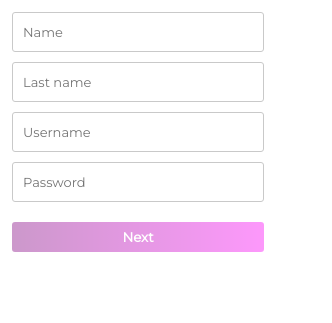
Given RegisterForm › When the user types and goes to next step › Then it should render 1 input and a button with text 'Register'
The image size is (332, 323).
Type "asdasd" into the field labelled "Name" at (138, 32), box [12, 12, 264, 52]
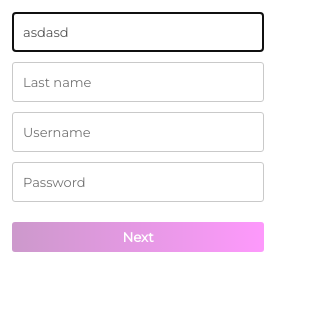
Type "asdasd" into the field labelled "Last name" at (138, 82), box [12, 62, 264, 102]
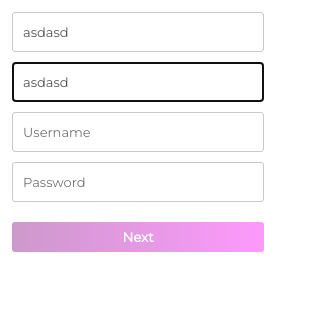
Type "asdasd" into the field labelled "Username" at (138, 132), box [12, 112, 264, 152]
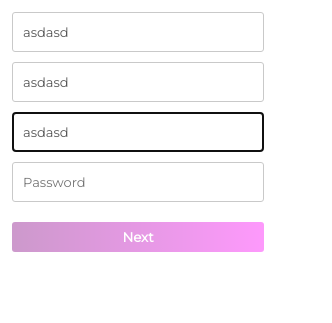
Type "asdasd" into the password field labelled "Password" at (138, 182), box [12, 162, 264, 202]
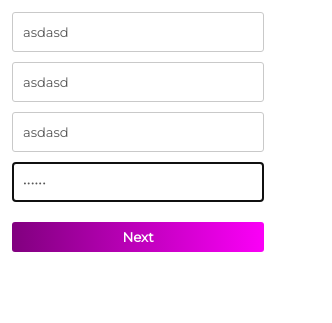
Click the button "Next" at (138, 237), box [12, 222, 264, 252]
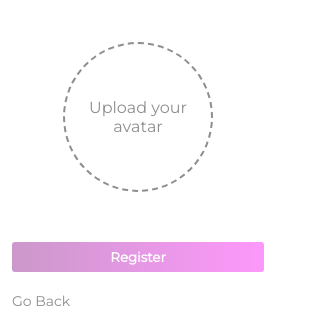
Now the file field labelled "Upload your avatar" is shown, box [63, 42, 213, 192]
Now the button "Register" is shown, box [12, 242, 264, 272]
